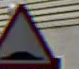Speed Breaker ahead: (0, 3, 56, 67)
